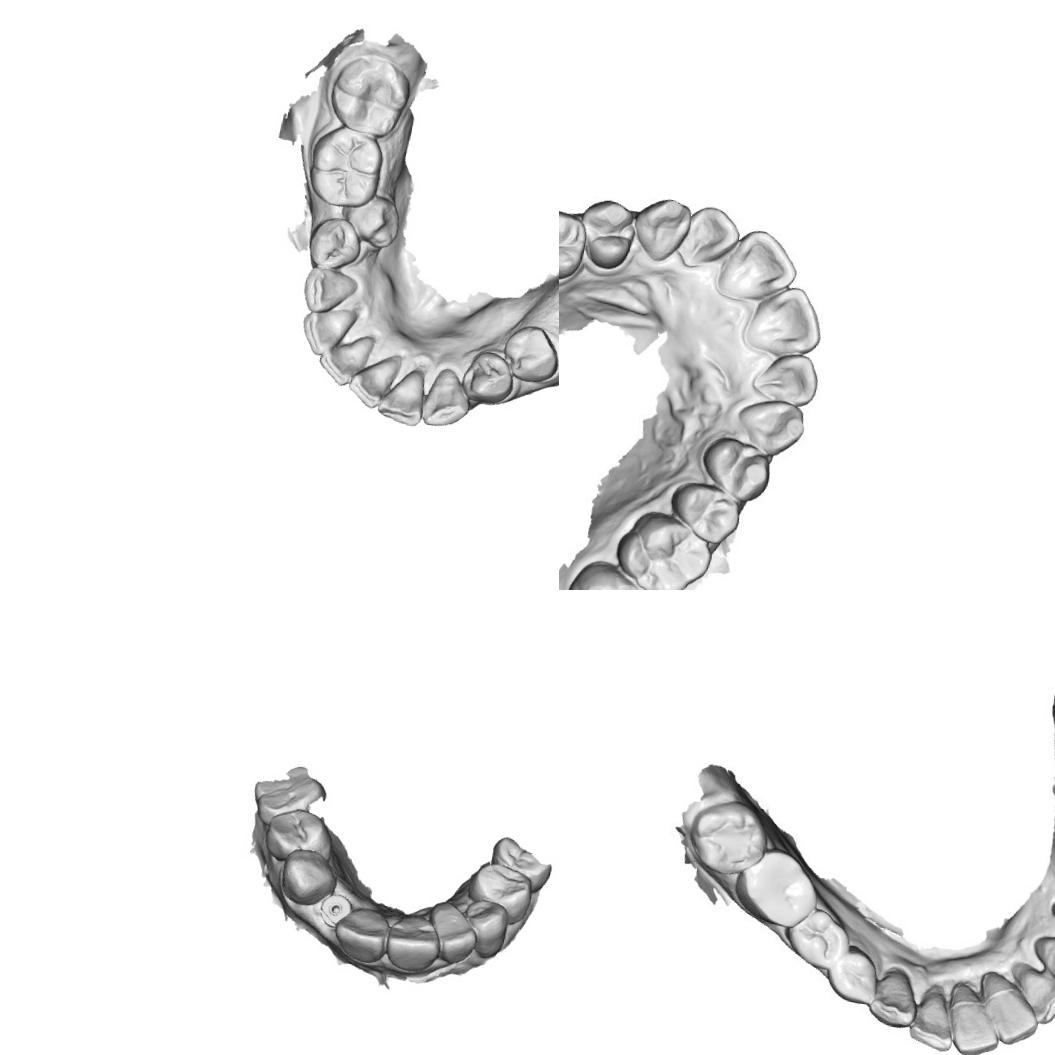canine: (628, 193, 694, 266), (417, 362, 476, 434), (276, 844, 340, 910), (733, 398, 807, 454), (865, 962, 924, 1032), (296, 263, 360, 320), (458, 895, 512, 960), (1025, 931, 1055, 990)
implant: (316, 890, 354, 932)
incisor: (746, 286, 826, 359), (718, 230, 798, 302), (977, 981, 1044, 1050), (940, 986, 1006, 1055), (313, 326, 380, 392), (422, 899, 484, 968), (330, 902, 392, 968), (382, 910, 444, 976), (297, 300, 362, 362), (374, 362, 433, 430), (686, 200, 740, 270), (344, 348, 402, 412), (906, 986, 960, 1054), (755, 354, 816, 405), (1008, 965, 1055, 1029)
molar: (728, 840, 826, 934), (323, 49, 417, 143), (682, 792, 776, 882), (616, 509, 713, 590), (303, 121, 388, 213), (247, 757, 332, 834), (560, 561, 661, 590)
premolar: (778, 900, 856, 977), (696, 433, 774, 506), (462, 858, 537, 927), (576, 195, 640, 272), (334, 188, 406, 252), (497, 320, 559, 387), (674, 484, 739, 546), (258, 810, 332, 864), (303, 211, 366, 274), (824, 942, 882, 1008), (458, 347, 518, 410), (487, 834, 556, 886), (559, 208, 593, 284)
